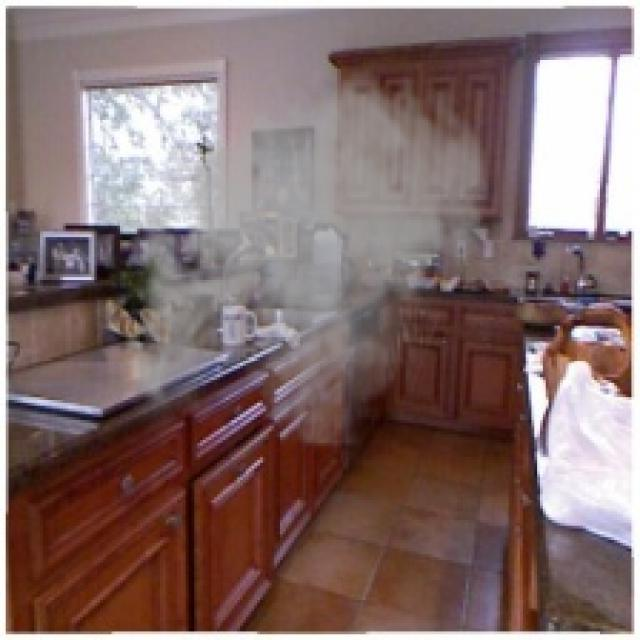smoke: (114, 57, 497, 449)
